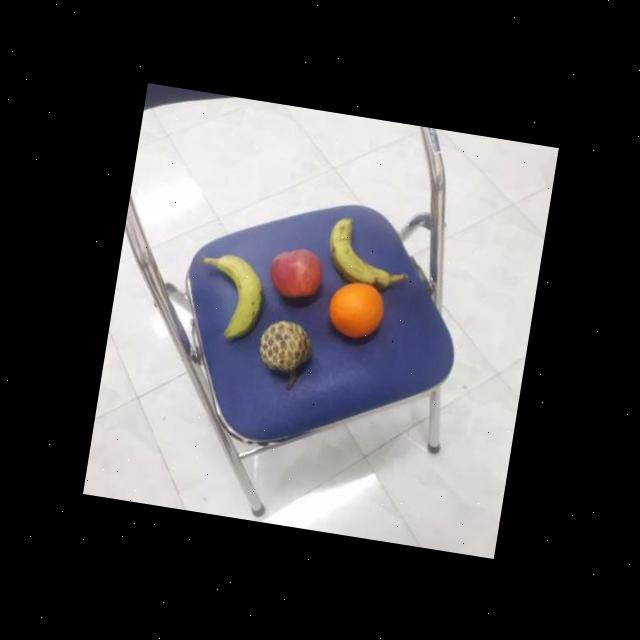Sakya fruit: (254, 313, 316, 375)
apple: (267, 241, 328, 301)
banana: (196, 250, 270, 344), (318, 210, 402, 292)
orange: (323, 276, 389, 342)
